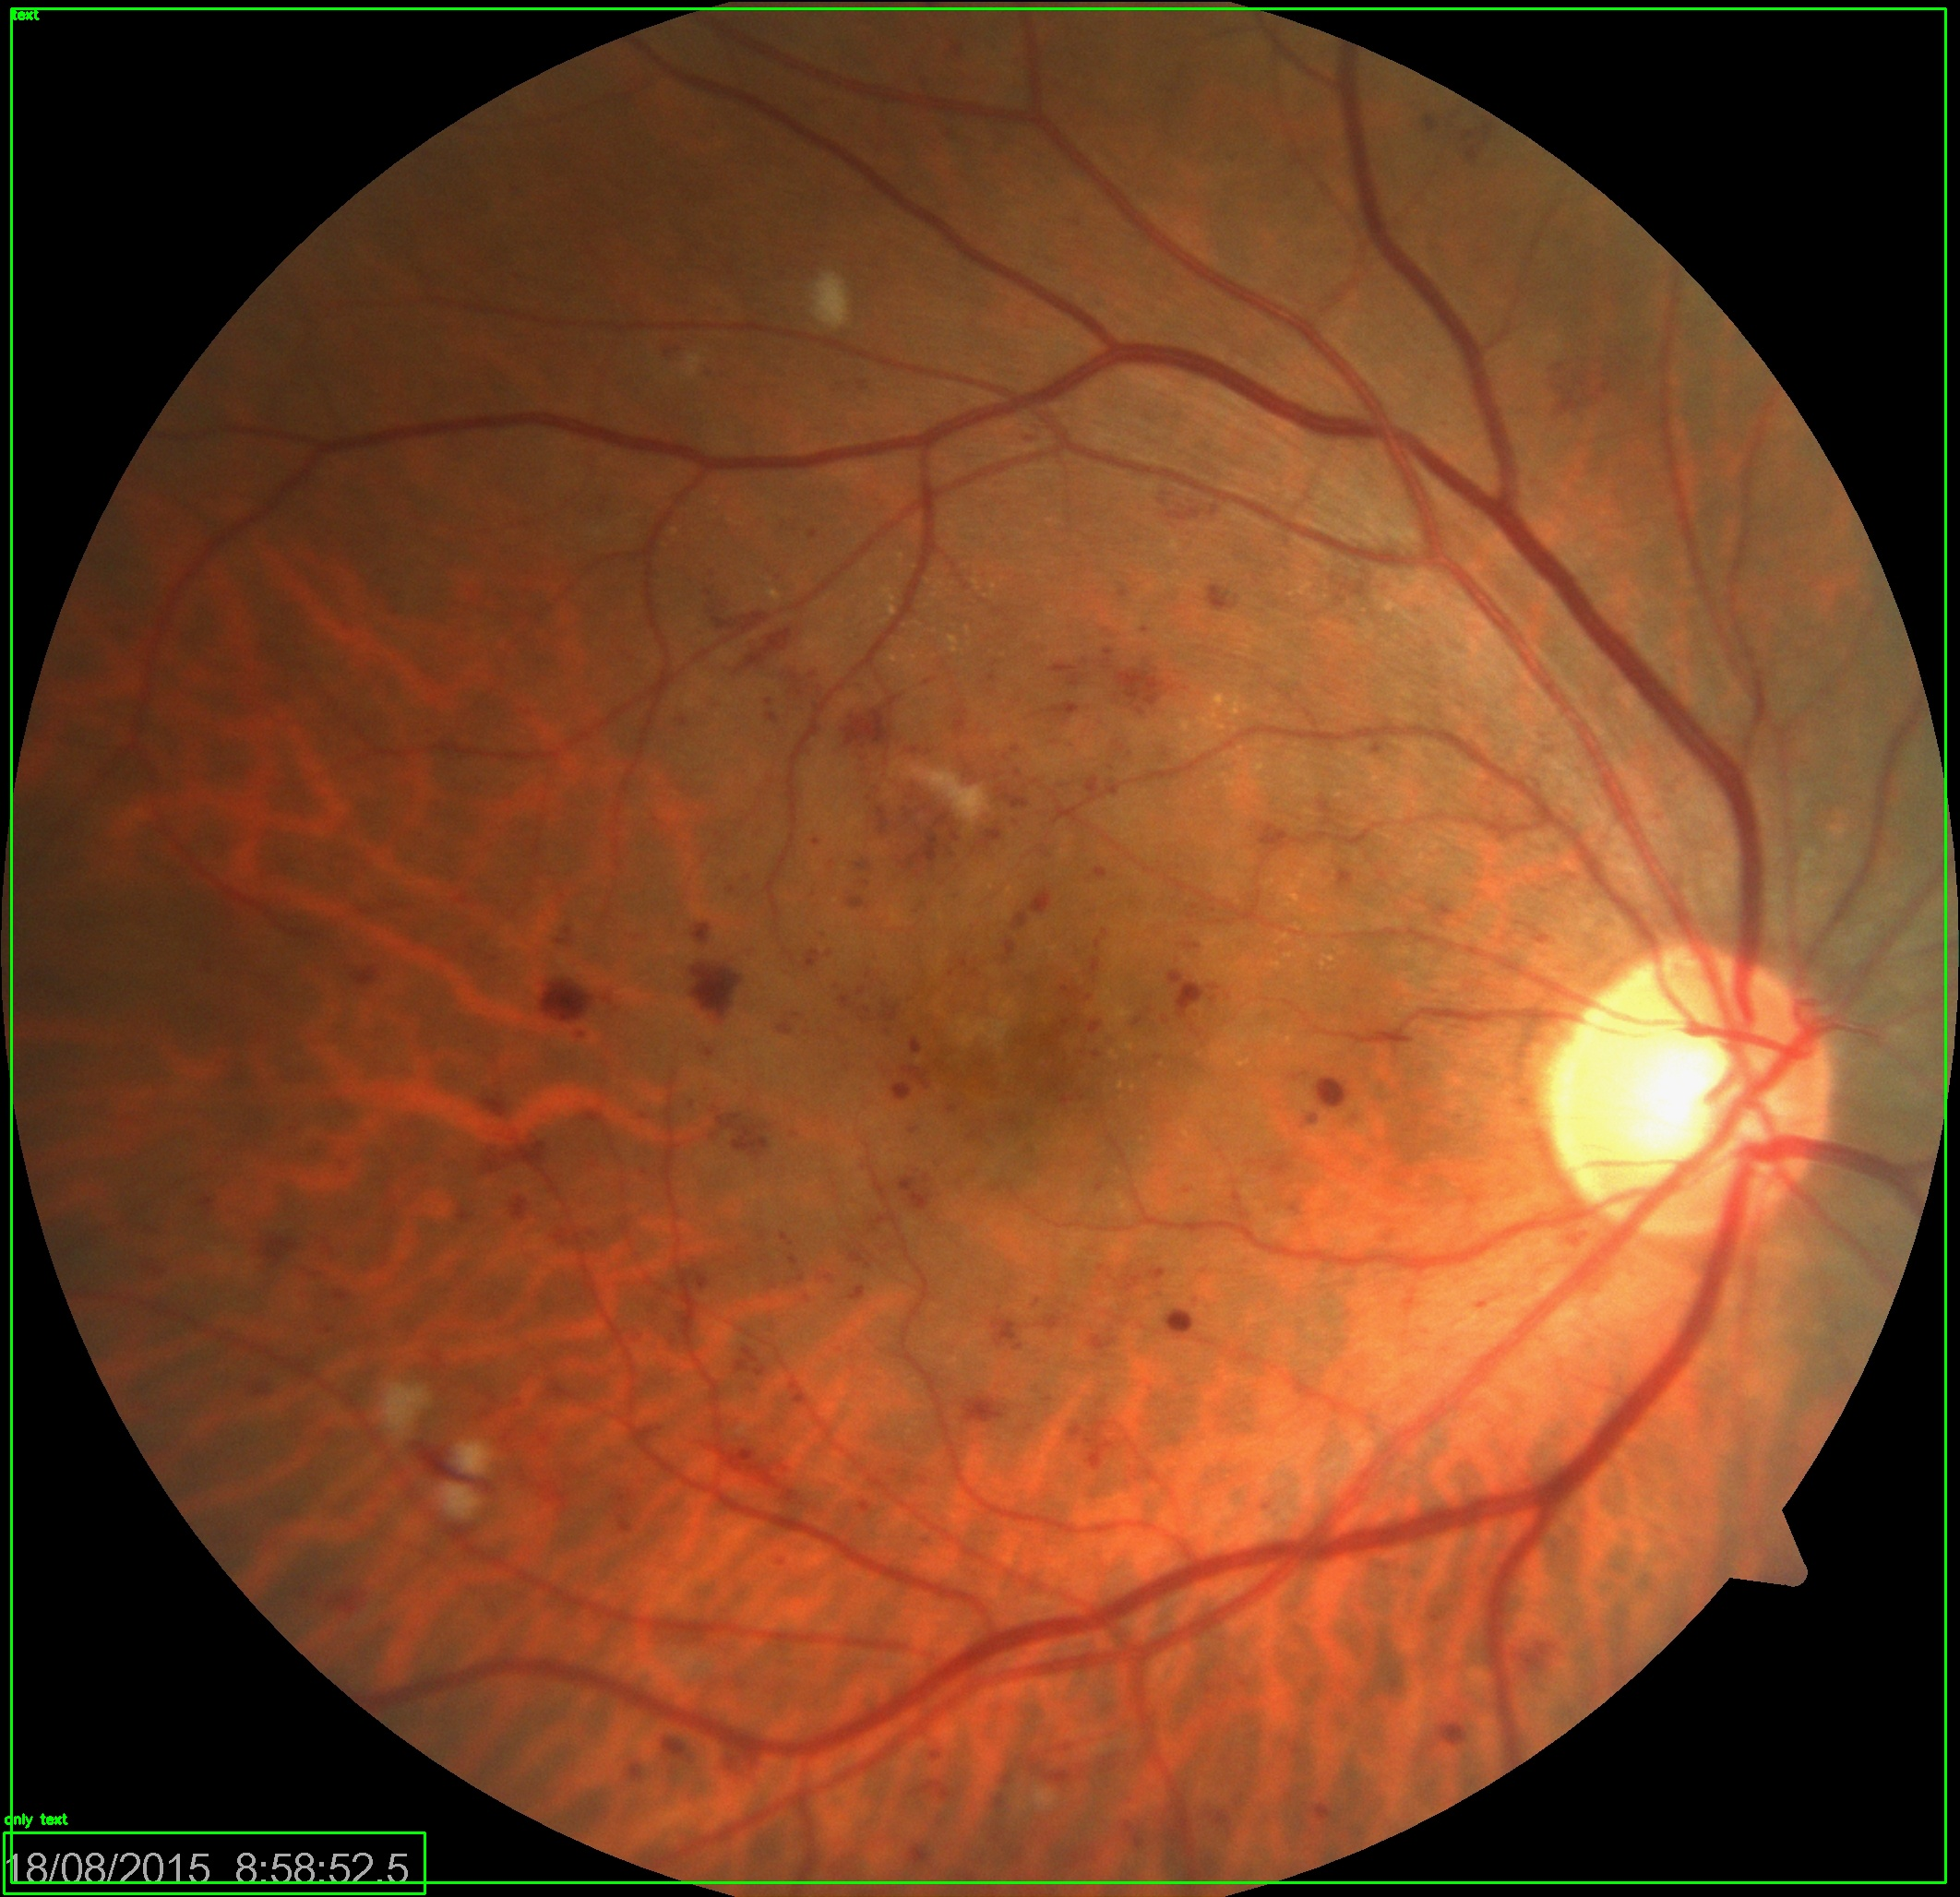text: (10, 9, 1946, 1883), (3, 1832, 425, 1894)
